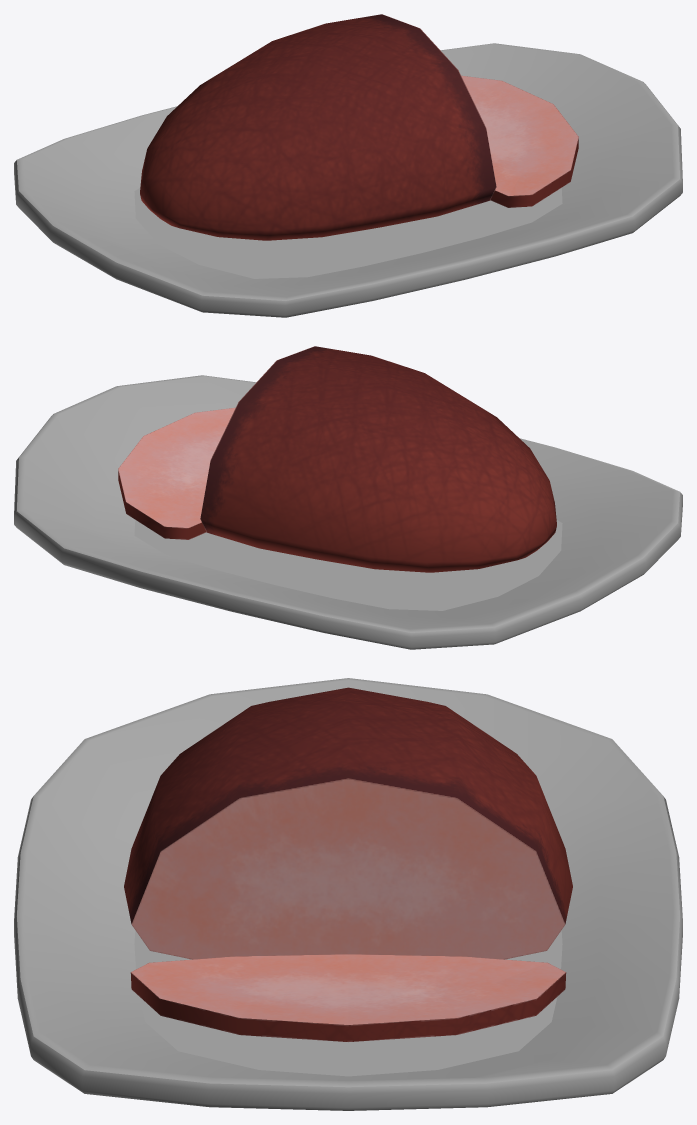
File: meat 2.fbx
3 renders of one model, top to bottom at view 1: azimuth 30°, elevation 25°; view 2: azimuth 150°, elevation 25°; view 3: azimuth 270°, elevation 25°, orthographic. The views are drawn at different scales.
Parts seen in each view (by area): view 1: polySurface1, polySurface3; view 2: polySurface1, polySurface3; view 3: polySurface1, polySurface3.
Boxes of the visible parts, left/top/right/bottom form: polySurface1: left=140, top=14, right=578, bottom=240; polySurface3: left=14, top=43, right=682, bottom=317; polySurface1: left=118, top=346, right=556, bottom=572; polySurface3: left=14, top=375, right=682, bottom=649; polySurface1: left=124, top=687, right=572, bottom=1041; polySurface3: left=14, top=678, right=682, bottom=1110.
Bounding box in the file's own units: 6.87 × 1.91 × 4.71.
2 materials, 1 textured.
